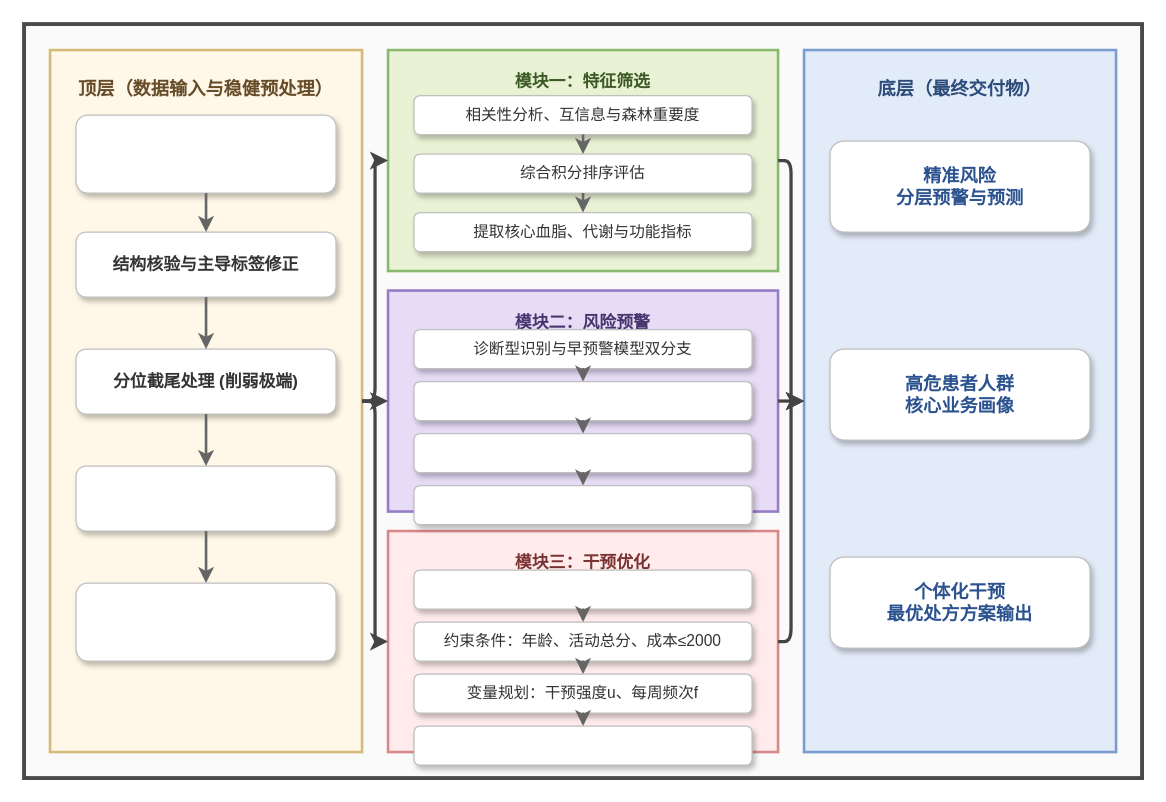
Image size: 1166x802. Some labels were removed from this diagram. Here are the shapes that lost their labels. From the top down, the centre of each, then its label:
At (207,155): "1000例病患个案数据 (体质/活动/血常规/基础)".
At (584,402): "多维特征融合与逻辑分流".
At (584,454): "构建低、中、高三级风险阈值".
At (207,500): "偏态变量对数变换".
At (584,506): "精准识别高风险核心特征组合".
At (584,591): "输入群体：聚焦痰湿高风险患者".
At (207,623): "派生特征构造 (活动受限计数等)".
At (584,747): "目标函数：最小化成本 且 降分≥10%".
